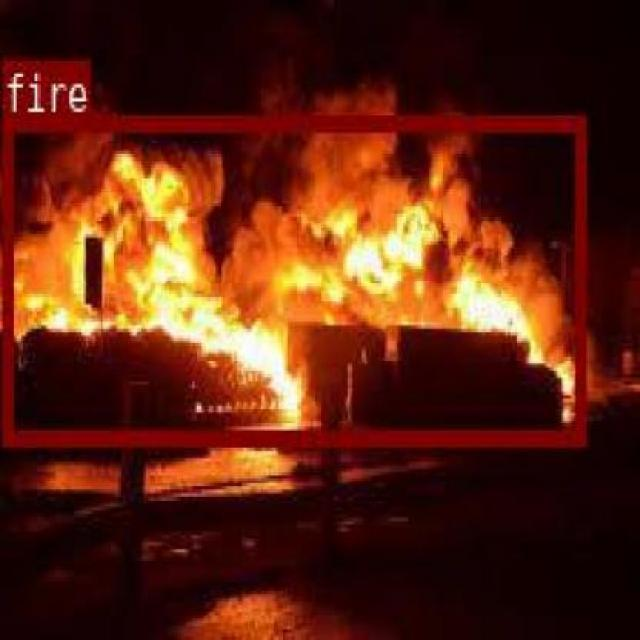fire: (0, 113, 585, 442)
